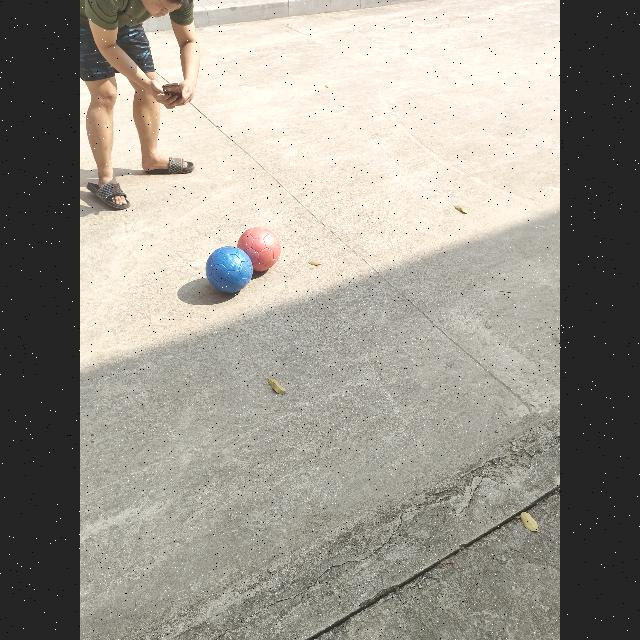B: (205, 246, 252, 293)
R: (237, 227, 281, 271)
